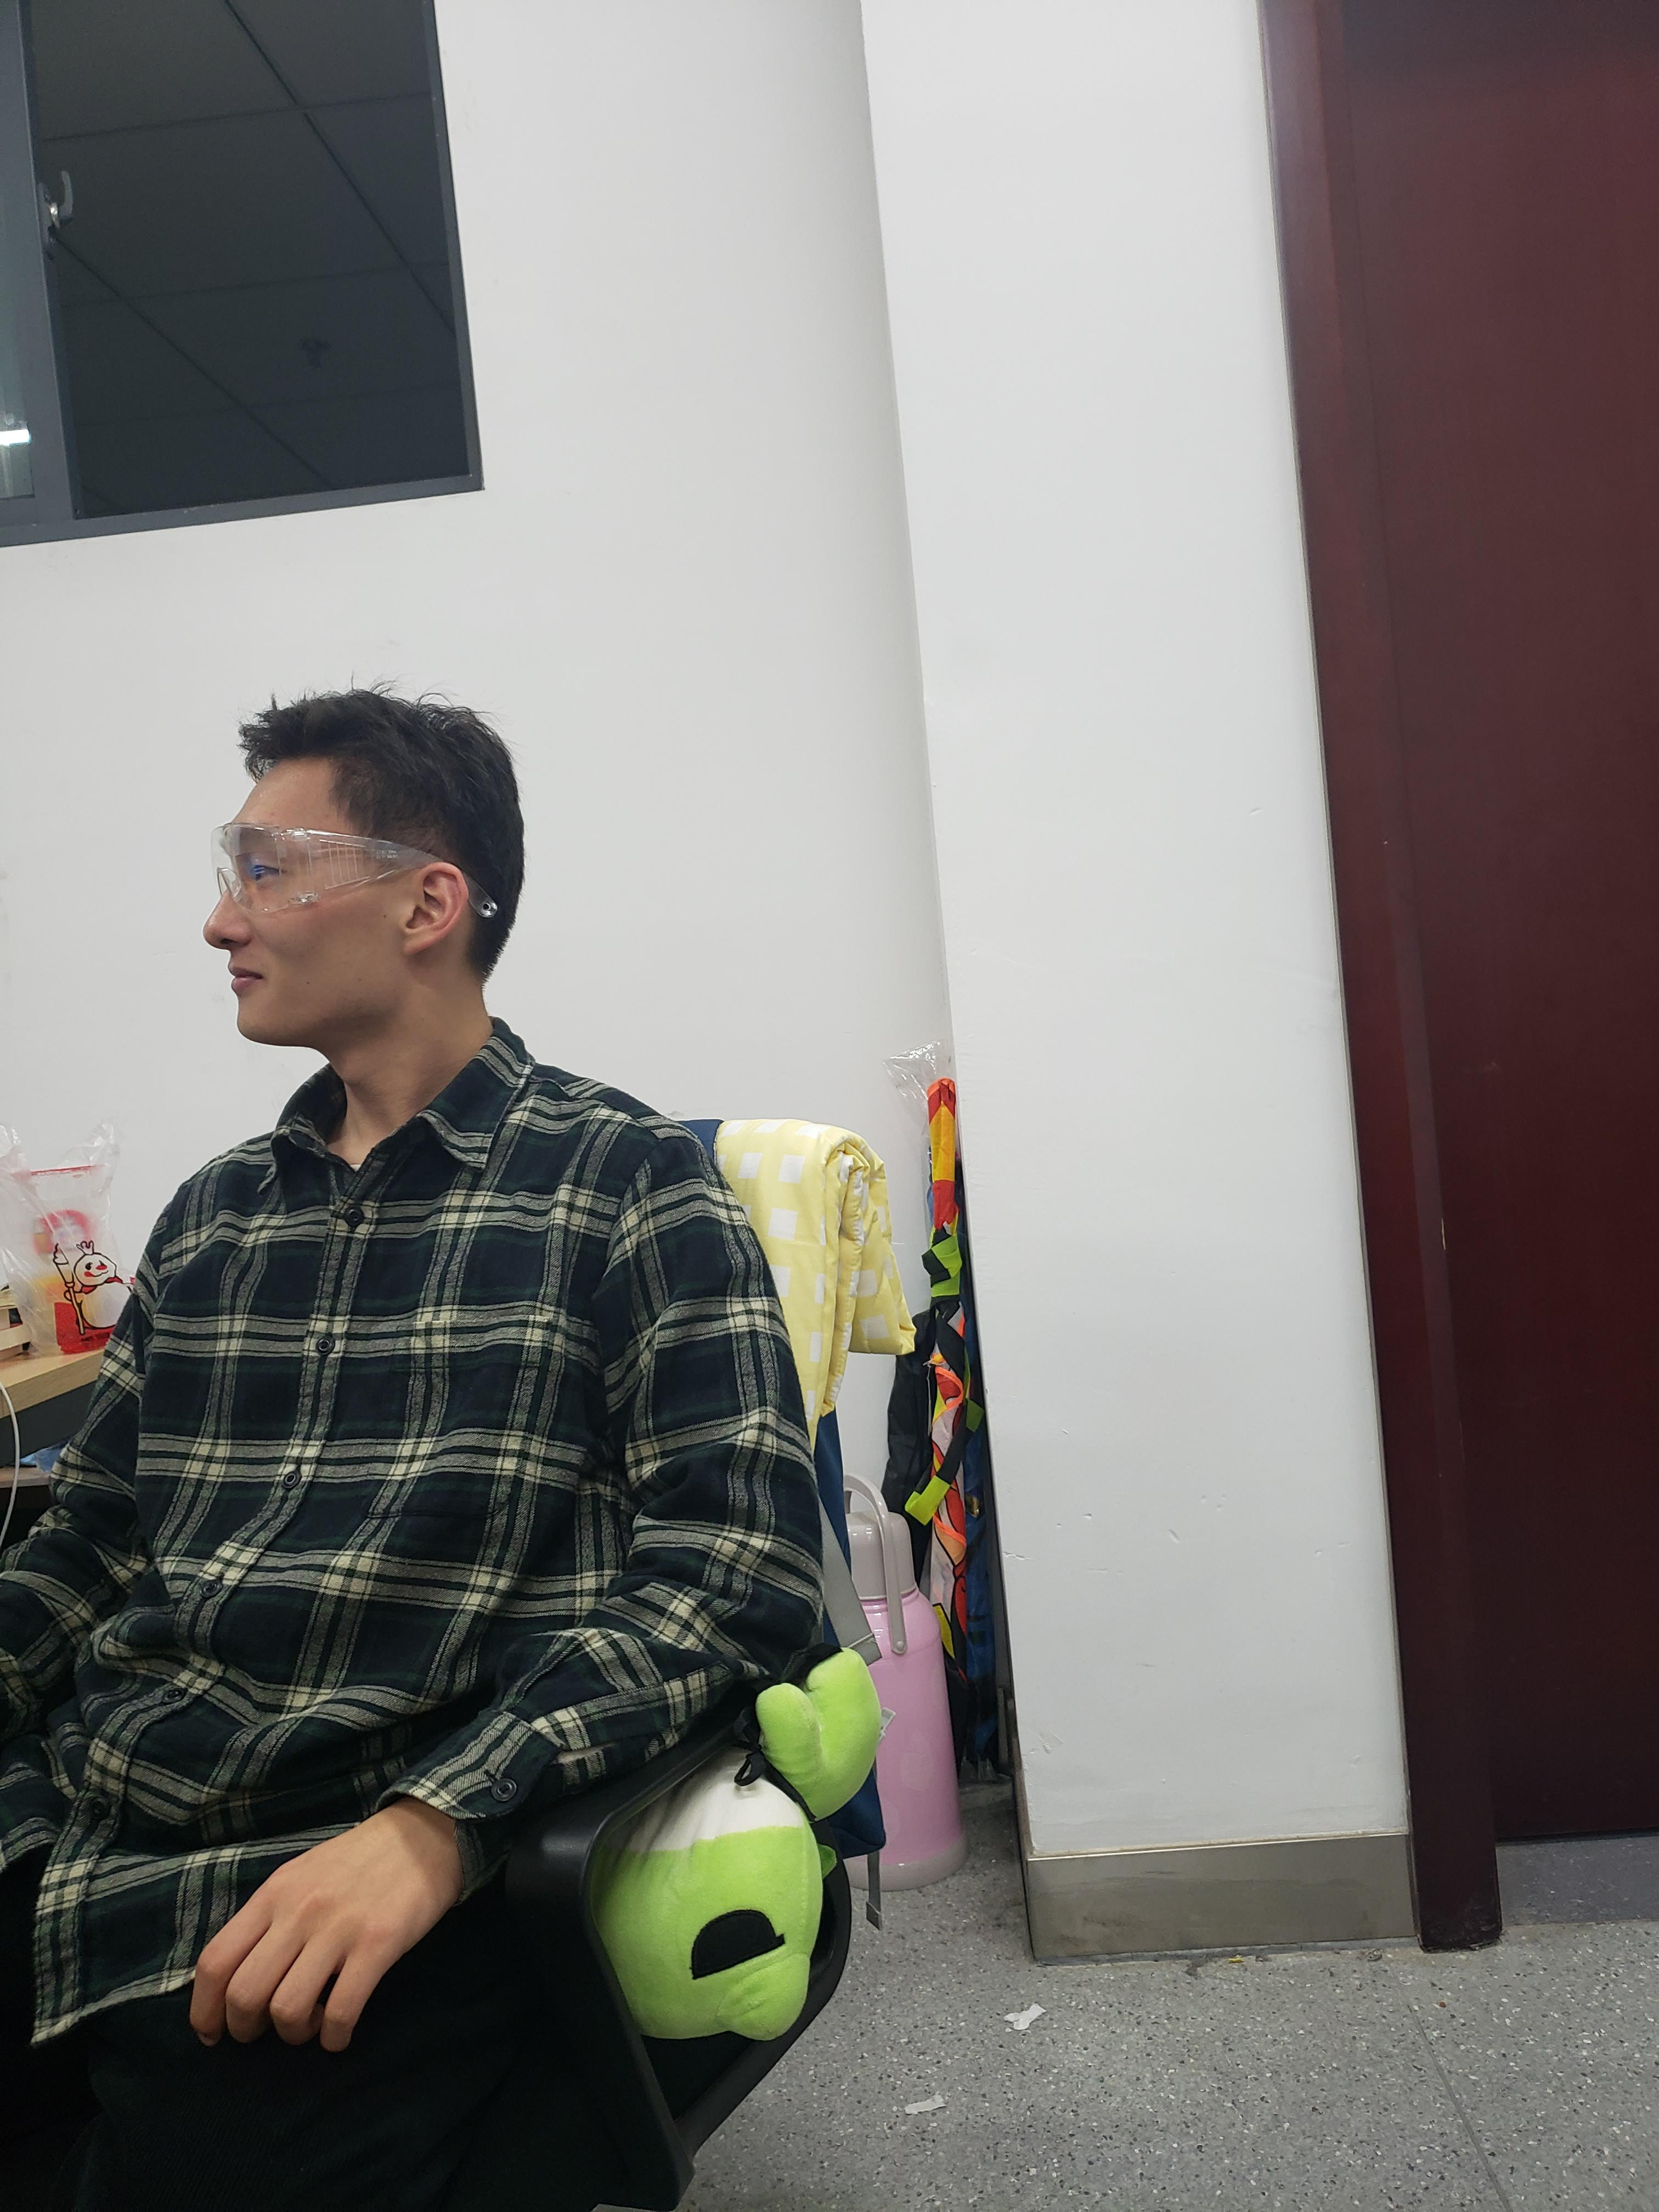glasses: (204, 812, 511, 930)
